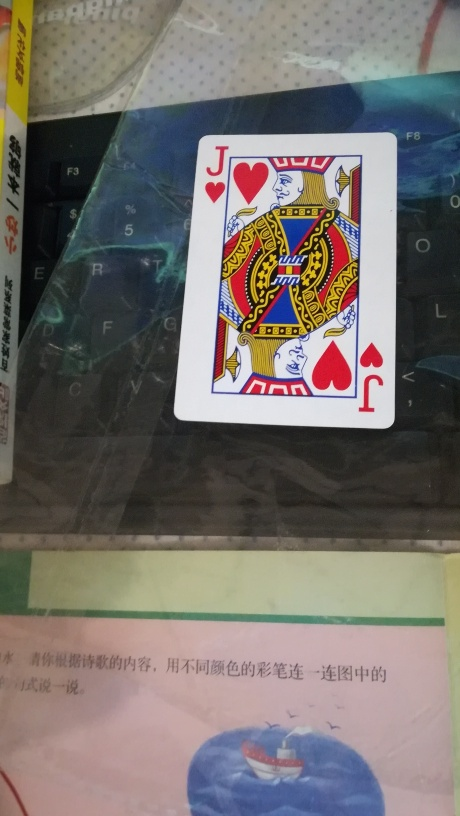hx j: (171, 132, 397, 428)
